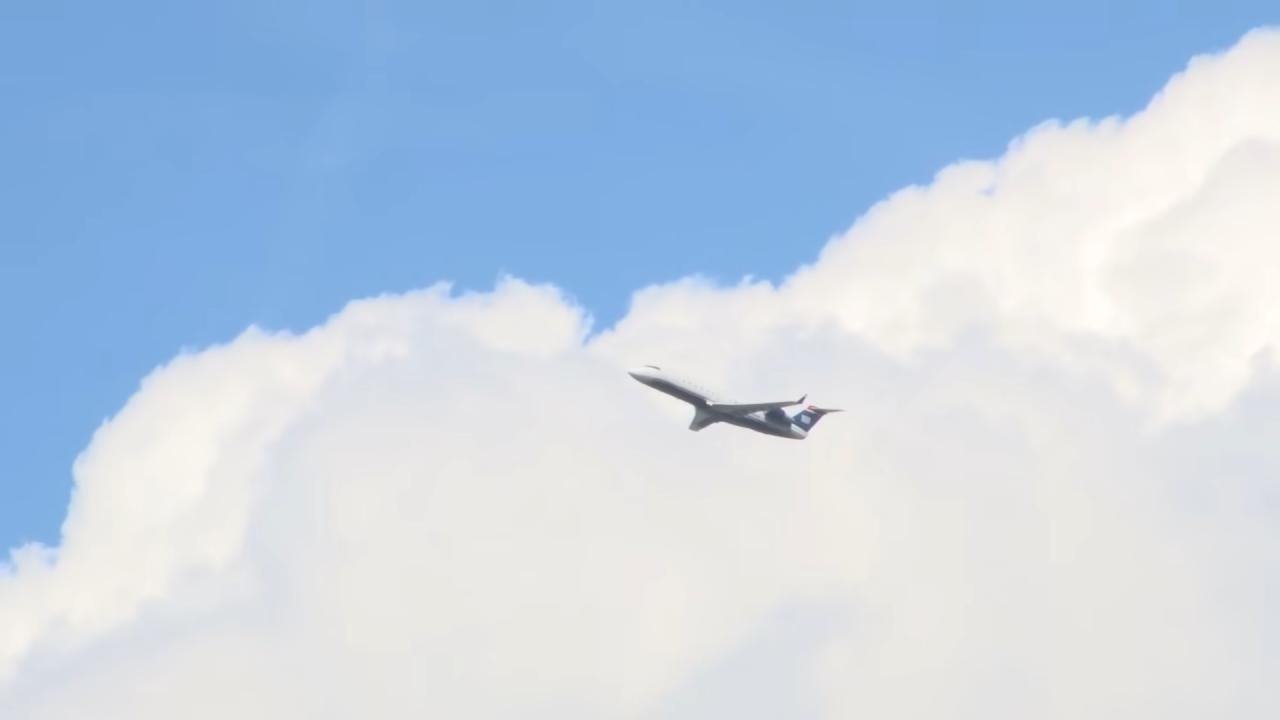Airplane: (616, 351, 853, 453)
